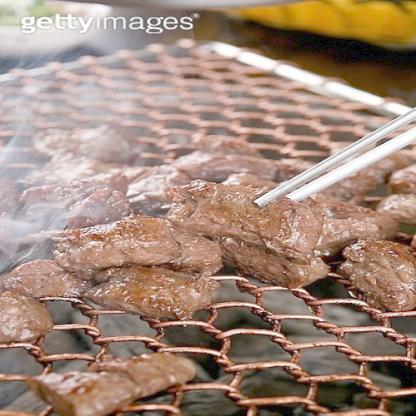Carne: (169, 176, 336, 251), (31, 351, 201, 415), (42, 218, 230, 272), (82, 265, 239, 320), (335, 233, 416, 315), (4, 176, 141, 213), (0, 260, 105, 302), (0, 283, 61, 337), (173, 150, 299, 171)
